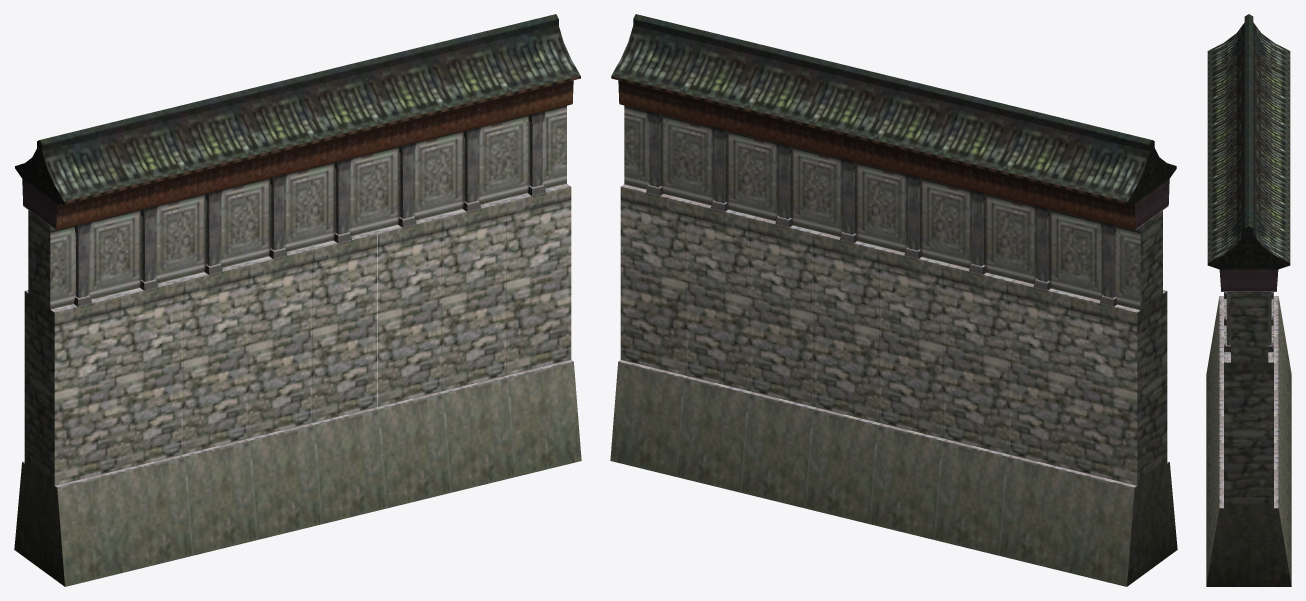
The model's file is c1-middledam-02.glb.
3 views of the same model, side by side, from view 1: azimuth 30°, elevation 25°; view 2: azimuth 150°, elevation 25°; view 3: azimuth 270°, elevation 25° (orthographic). The views are drawn at different scales.
Parts seen in each view (by area): view 1: b1-middledam-02; view 2: b1-middledam-02; view 3: b1-middledam-02.
Part boxes in pixels (<box>): b1-middledam-02: <box>14,14,581,586</box>; b1-middledam-02: <box>610,14,1177,586</box>; b1-middledam-02: <box>1206,14,1291,586</box>.
Bounding box in the file's own units: 10 × 7.92 × 1.7.
Materials: 1 (1 with a texture image).
